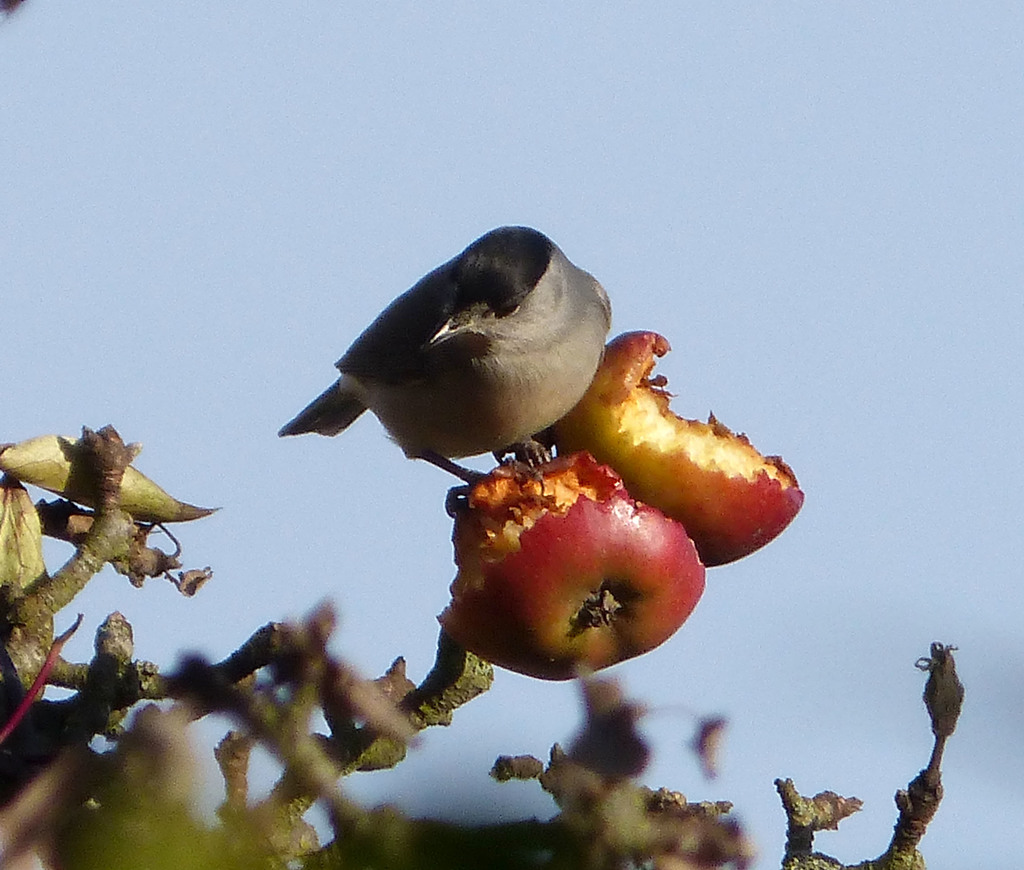Apple: (540, 324, 801, 569), (430, 460, 700, 694)
